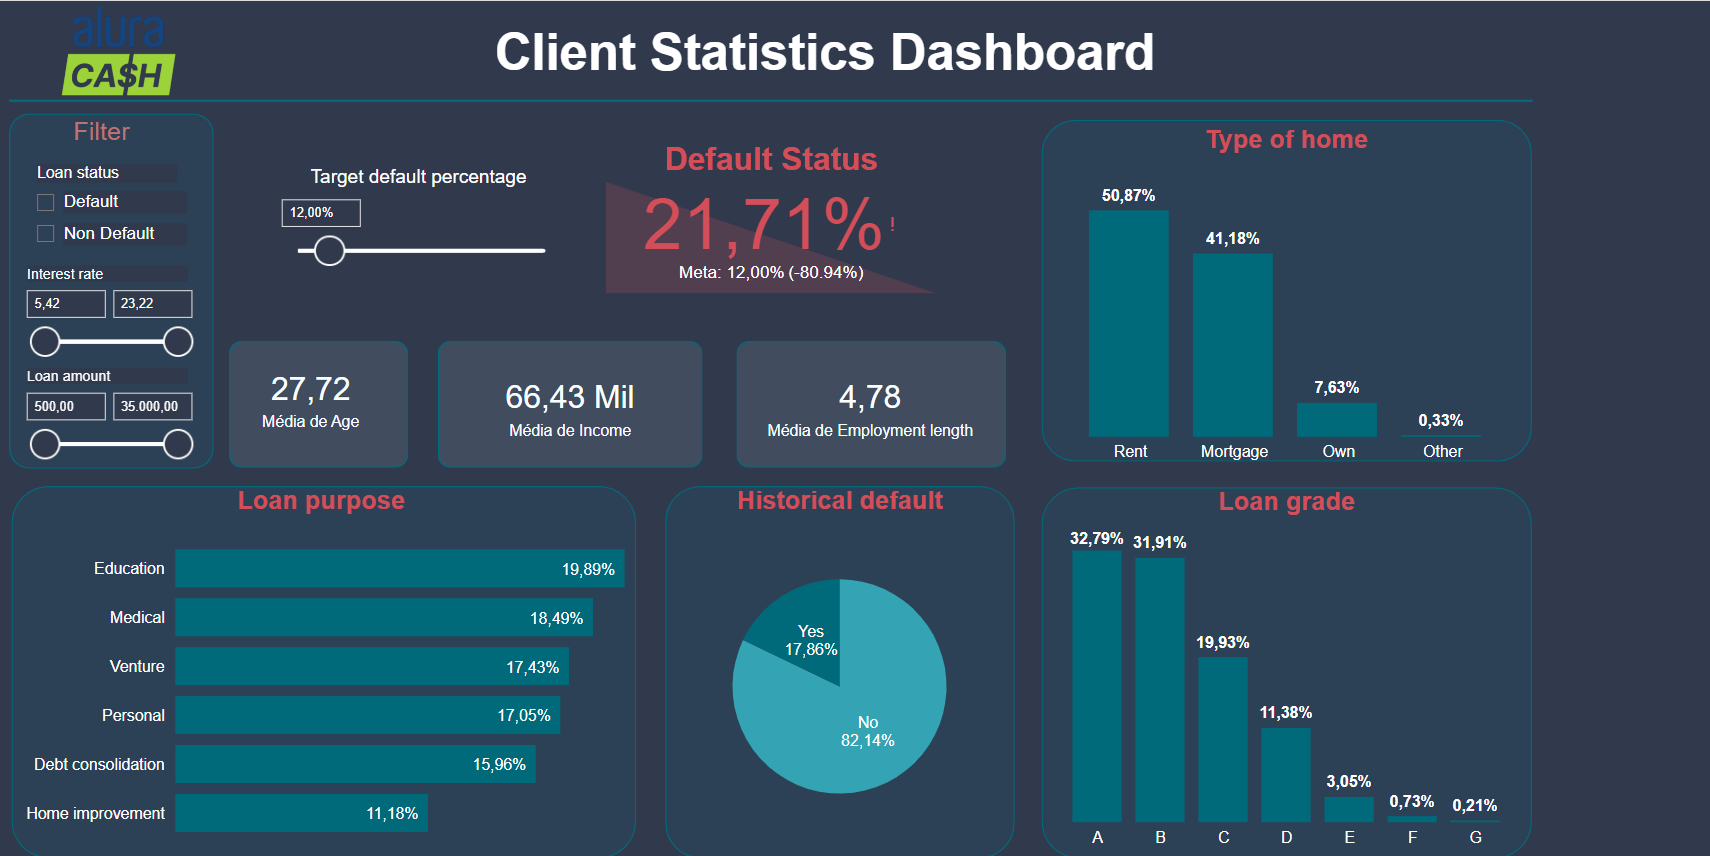

The page's visual inventory and layout, read from the dashboard file:
{"tool":"powerbi","page":{"name":"Page 1","canvas":[1280,720],"ordinal":0},"visuals":[{"type":"textbox","box":[191.9,0,986.5,84.3],"z":4000},{"type":"shape","box":[0,9.8,1279.9,149.1],"z":6000},{"type":"shape","box":[2.4,407.1,524.4,312.9],"z":7000},{"type":"shape","box":[0,94.1,172.4,298.3],"z":8000},{"type":"barChart","title":"Loan purpose","fields":{"Category":["loan_dataset.Loan intention"],"Y":["CountNonNull(loan_dataset.Loan intention)"]},"box":[0,407.1,524.4,312.9],"z":8500},{"type":"shape","box":[551.3,407.1,293.4,312.9],"z":9000},{"type":"pieChart","title":"Historical default","fields":{"Y":["CountNonNull(loan_dataset.Historical default)"],"Category":["loan_dataset.Historical default"]},"box":[551.3,407.1,293.4,312.9],"z":9500},{"type":"slicer","fields":{"Values":["loan_dataset.Loan status"]},"box":[11,132.8,144.2,92.9],"z":10000},{"type":"shape","box":[867.9,408.3,412,311.7],"z":11000},{"type":"columnChart","title":"Loan grade","fields":{"Y":["CountNonNull(loan_dataset.Loan grade)"],"Category":["loan_dataset.Loan grade"]},"box":[867.9,408.3,412,311.7],"z":11500},{"type":"shape","box":[867.9,100.2,412,287.3],"z":12000},{"type":"columnChart","title":"Type of home","fields":{"Y":["CountNonNull(loan_dataset.Type of home)"],"Category":["loan_dataset.Type of home"]},"box":[867.9,103.9,412,292.2],"z":12500},{"type":"textbox","box":[0,92.4,155.2,35.4],"z":13000},{"type":"card","fields":{"Values":["Avg(loan_dataset.Age)"]},"box":[171.9,283.8,162.6,99],"z":14000},{"type":"shape","box":[184.6,286,150.4,106.3],"z":15000},{"type":"slicer","fields":{"Values":["loan_dataset.Interest rate"]},"box":[2.4,217.1,161.4,99],"z":16000},{"type":"card","fields":{"Values":["Avg(loan_dataset.Employment length)"]},"box":[614.9,294.6,218.8,90.5],"z":17000},{"type":"shape","box":[611.2,286,226.1,106.3],"z":18000},{"type":"slicer","fields":{"Values":["loan_dataset.Loan amount"]},"box":[2.4,303.9,161.4,103.9],"z":19000},{"type":"card","fields":{"Values":["Avg(loan_dataset.Income)"]},"box":[360.1,296.8,222.5,85.6],"z":20000},{"type":"shape","box":[360.6,286,222.5,106.3],"z":21000},{"type":"kpi","title":"Default  Status","fields":{"Indicator":["CountNonNull(loan_dataset.Loan status)"],"TrendLine":["loan_dataset.Default"],"Goal":["Max(Target Default Number.Target Default Number)"]},"box":[496.3,117.4,287.3,133.2],"z":22000},{"type":"slicer","title":"Target default percentage","fields":{"Values":["Target Default Number.Target Default Number"]},"box":[216.4,138.1,255.5,112.5],"z":23000},{"type":"image","box":[0,0,184.6,84.3],"z":23001}]}

Visuals, with their boxes on the page's 1280x720 design canvas (x1, y1, x2, y2). These are canvas units, not pixel positions in the 1710x856 screenshot, which may show the page scaled, cropped or inside an application window:
textbox: l=192, t=0, r=1178, b=84
shape: l=0, t=10, r=1280, b=159
shape: l=2, t=407, r=527, b=720
shape: l=0, t=94, r=172, b=392
"Loan purpose" barChart: l=0, t=407, r=524, b=720
shape: l=551, t=407, r=845, b=720
"Historical default" pieChart: l=551, t=407, r=845, b=720
slicer - loan_dataset.Loan status: l=11, t=133, r=155, b=226
shape: l=868, t=408, r=1280, b=720
"Loan grade" columnChart: l=868, t=408, r=1280, b=720
shape: l=868, t=100, r=1280, b=388
"Type of home" columnChart: l=868, t=104, r=1280, b=396
textbox: l=0, t=92, r=155, b=128
card - Avg(loan_dataset.Age): l=172, t=284, r=334, b=383
shape: l=185, t=286, r=335, b=392
slicer - loan_dataset.Interest rate: l=2, t=217, r=164, b=316
card - Avg(loan_dataset.Employment length): l=615, t=295, r=834, b=385
shape: l=611, t=286, r=837, b=392
slicer - loan_dataset.Loan amount: l=2, t=304, r=164, b=408
card - Avg(loan_dataset.Income): l=360, t=297, r=583, b=382
shape: l=361, t=286, r=583, b=392
"Default  Status" kpi: l=496, t=117, r=784, b=251
"Target default percentage" slicer: l=216, t=138, r=472, b=251
image: l=0, t=0, r=185, b=84
